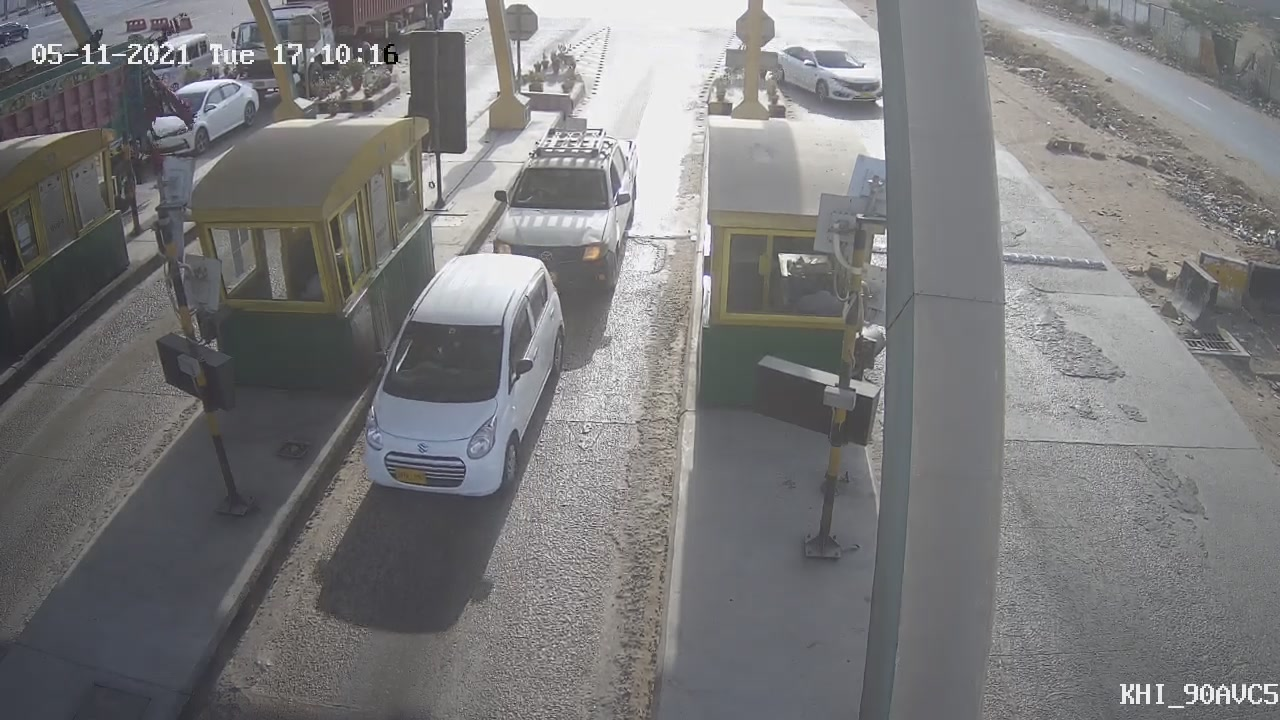F1: (337, 239, 590, 521), (473, 105, 653, 309)
